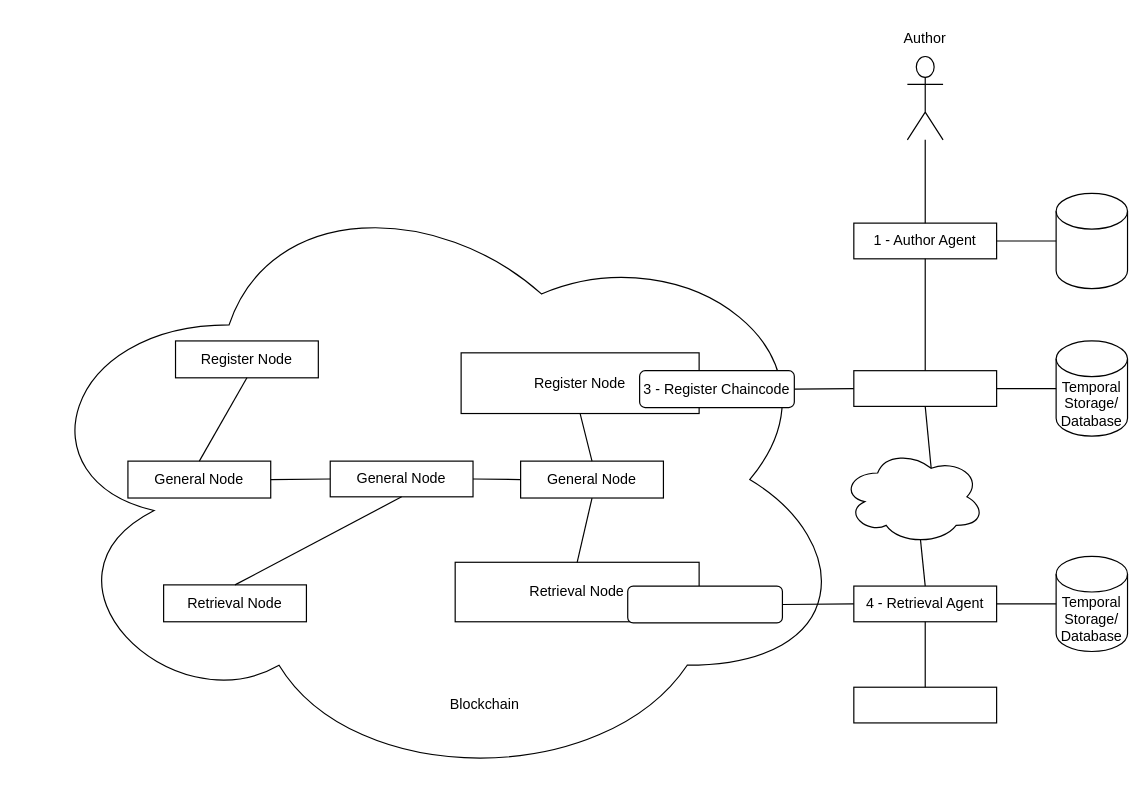
Some shapes in this 1148 by 809 pixel diagram are drawn without their labels. Each missing label, with the centre of its shape:
2 - Register Agent: (925,387)
5 - Retrieval Chaincode: (704,604)
Device: (925,704)
IPFS: (913,496)
KeyStore/ Wallet: (1091,240)
